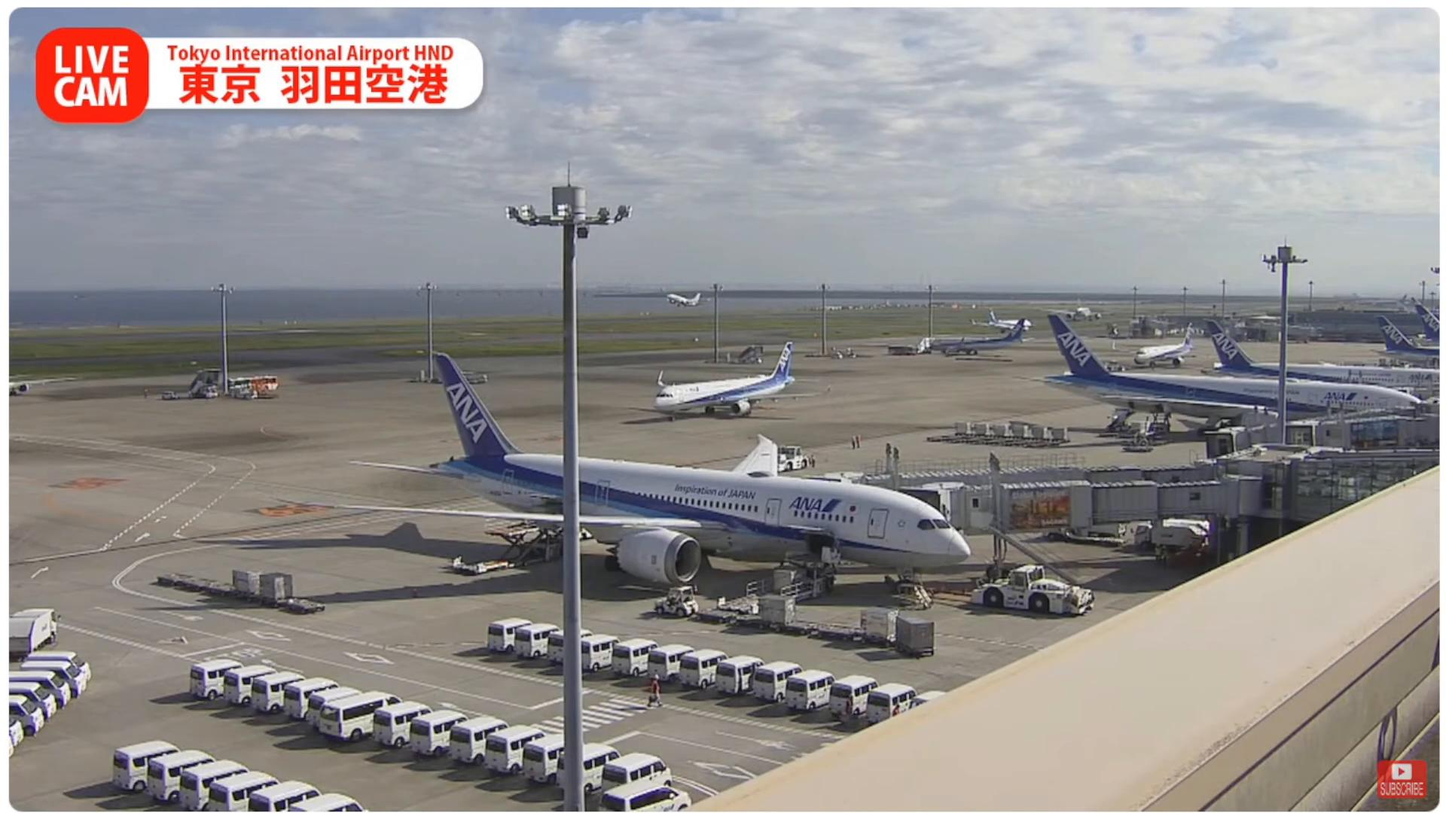APS: (970, 564, 1094, 617)
Aerobridge: (900, 451, 1261, 583), (806, 445, 1222, 488)
Airplane: (273, 351, 971, 600)
Dolly: (695, 606, 934, 657), (157, 573, 327, 615)
JCPL: (717, 563, 836, 617), (486, 524, 564, 570)
Tractor: (655, 586, 699, 616)
ULD: (861, 605, 900, 640), (896, 615, 934, 649), (759, 593, 797, 624), (258, 573, 293, 601), (232, 569, 265, 596)
Window: (1289, 458, 1438, 521)
